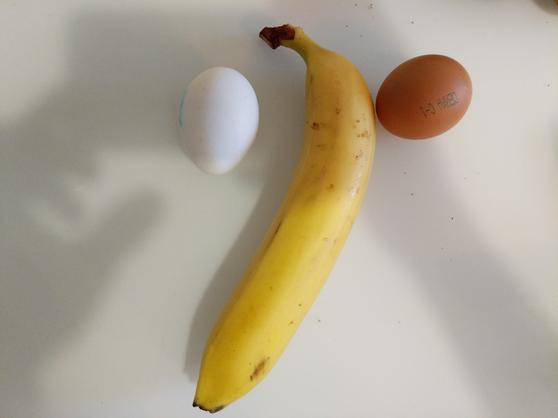banana: (190, 26, 377, 418)
egg: (178, 69, 259, 177), (378, 54, 471, 140)
